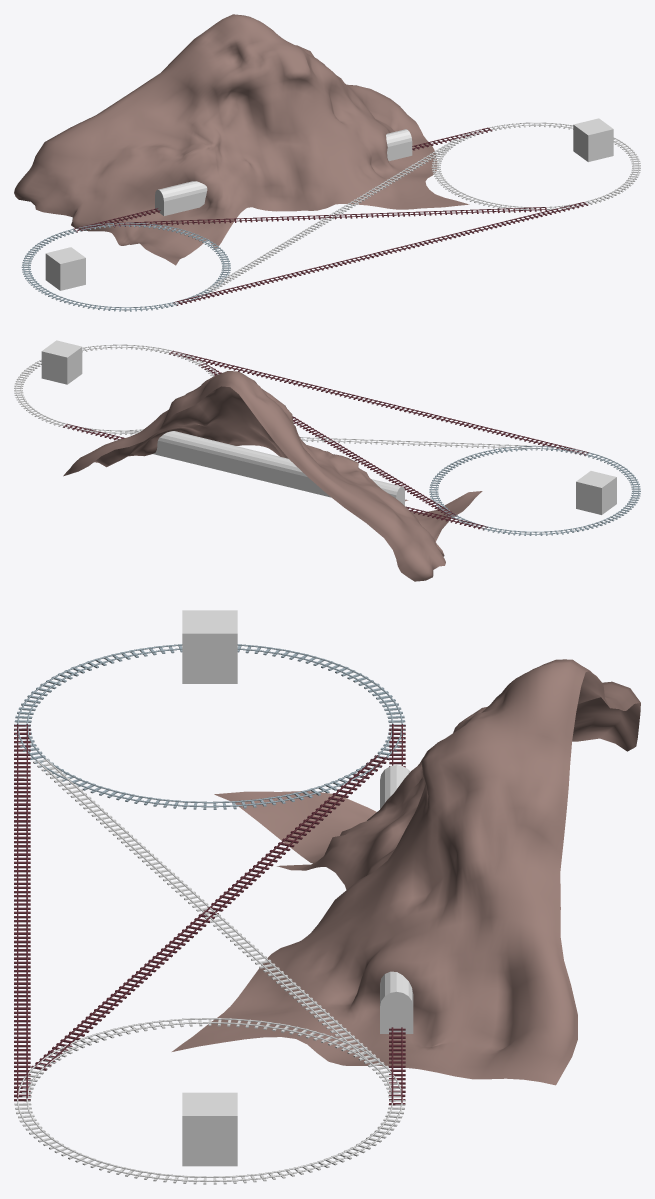
Rendered from map.glb.
3 renders of one model, top to bottom at view 1: azimuth 30°, elevation 25°; view 2: azimuth 150°, elevation 25°; view 3: azimuth 270°, elevation 25°, orthographic. The views are drawn at different scales.
Parts seen in each view (by area): view 1: Mountain, CircleTrackLeft, Cylinder, CircleTrackRight, StraightTrackBottom, CrossTrack1.001, CrossTrack1, Cube.001, Cube, StraightTrackBottom.001; view 2: Mountain, Cylinder, CircleTrackLeft, StraightTrackBottom, Cube.001, Cube, CircleTrackRight, CrossTrack1.001, CrossTrack1, StraightTrackBottom.001; view 3: Mountain, CircleTrackRight, CircleTrackLeft, StraightTrackBottom, CrossTrack1.001, CrossTrack1, Cube.001, Cube, Cylinder, StraightTrackBottom.001.
Part boxes in pixels (left/top/right/bottom): Mountain: left=14, top=14, right=469, bottom=265; CircleTrackLeft: left=21, top=222, right=230, bottom=311; Cylinder: left=155, top=129, right=412, bottom=215; CircleTrackRight: left=431, top=122, right=640, bottom=211; StraightTrackBottom: left=173, top=202, right=588, bottom=305; CrossTrack1.001: left=113, top=207, right=546, bottom=227; CrossTrack1: left=207, top=141, right=458, bottom=292; Cube.001: left=573, top=118, right=613, bottom=161; Cube: left=45, top=247, right=85, bottom=290; StraightTrackBottom.001: left=74, top=127, right=492, bottom=232; Mountain: left=63, top=371, right=482, bottom=581; Cylinder: left=153, top=431, right=404, bottom=505; CircleTrackLeft: left=429, top=446, right=640, bottom=535; StraightTrackBottom: left=169, top=350, right=588, bottom=455; Cube.001: left=41, top=340, right=82, bottom=384; Cube: left=576, top=471, right=616, bottom=514; CircleTrackRight: left=14, top=344, right=218, bottom=434; CrossTrack1.001: left=199, top=363, right=457, bottom=517; CrossTrack1: left=109, top=430, right=542, bottom=449; StraightTrackBottom.001: left=63, top=423, right=487, bottom=530; Mountain: left=172, top=659, right=640, bottom=1085; CircleTrackRight: left=14, top=1018, right=405, bottom=1184; CircleTrackLeft: left=14, top=644, right=405, bottom=809; StraightTrackBottom: left=14, top=724, right=30, bottom=1101; CrossTrack1.001: left=31, top=755, right=389, bottom=1070; CrossTrack1: left=33, top=759, right=388, bottom=1070; Cube.001: left=182, top=1092, right=237, bottom=1166; Cube: left=182, top=610, right=237, bottom=683; Cylinder: left=380, top=765, right=413, bottom=1033; StraightTrackBottom.001: left=389, top=724, right=405, bottom=1105.
Size of what is drawn, in the model's own units: 46.14 by 12.33 by 22.63.
